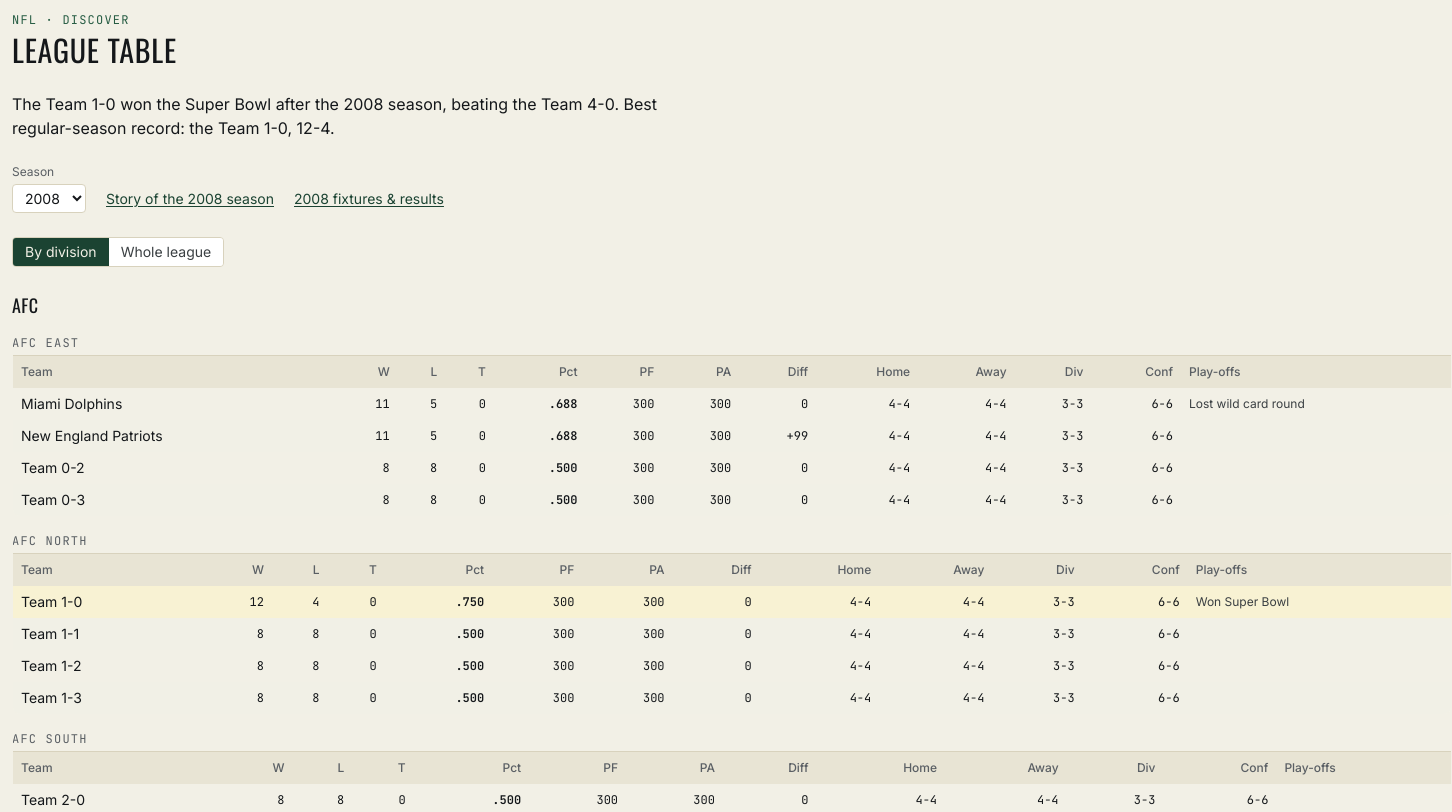
Test: NFL pages › League Table lists the bracket division winner first and toggles to a sortable league table
Expected: the text with test id "nfl-standings-story" is shown, left=12, top=92, right=668, bottom=140
Click the button "Whole league": point(166, 252) left=109, top=238, right=223, bottom=266
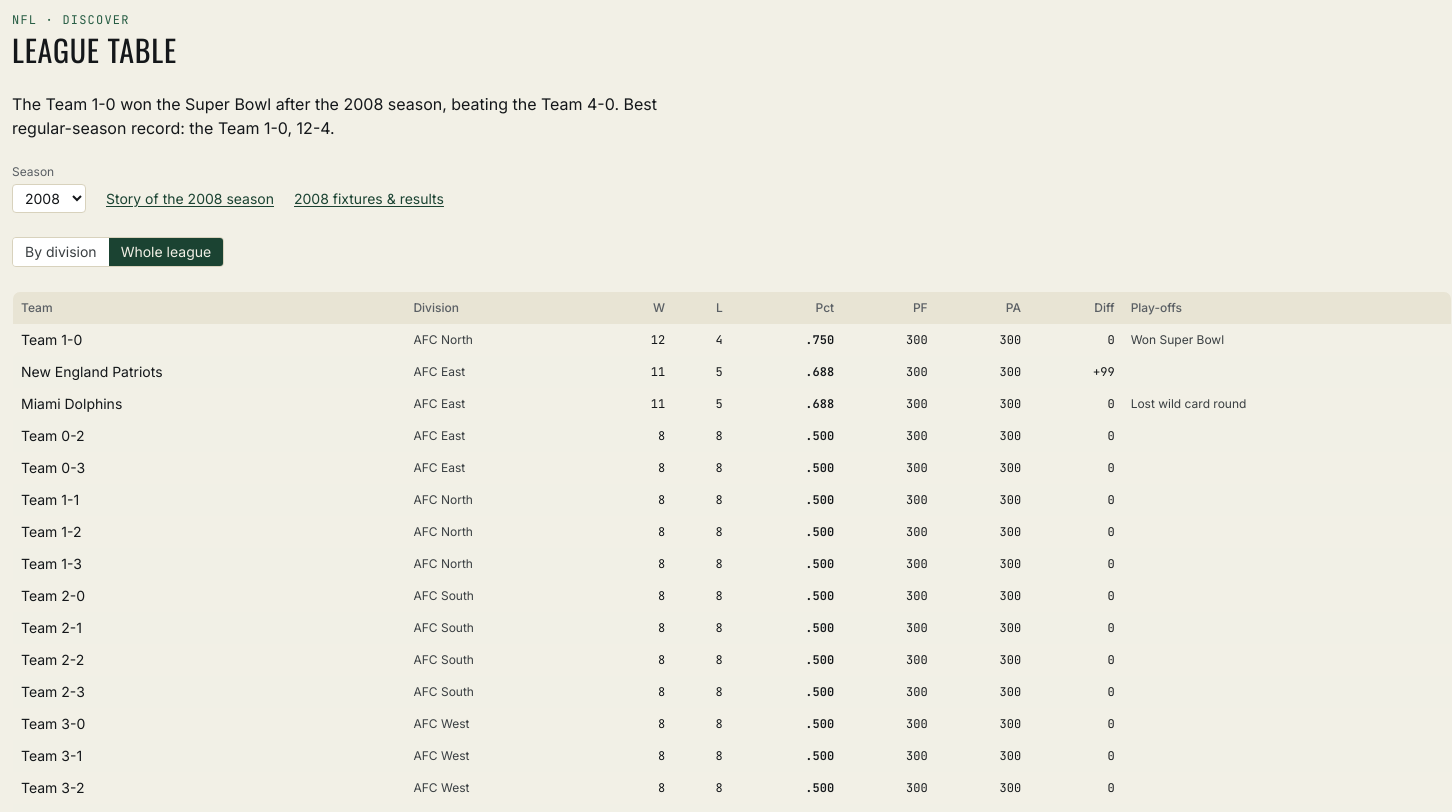
Expected: the link "Team 1-0" is shown, left=21, top=331, right=82, bottom=348
